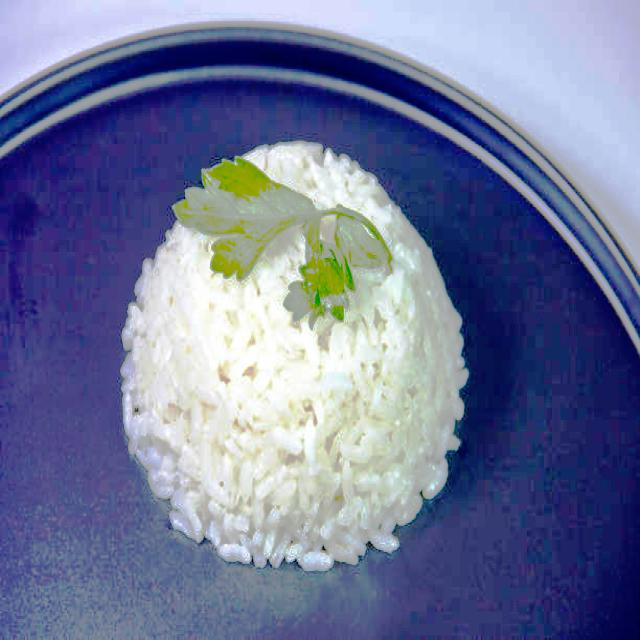rice: (121, 142, 466, 572)
